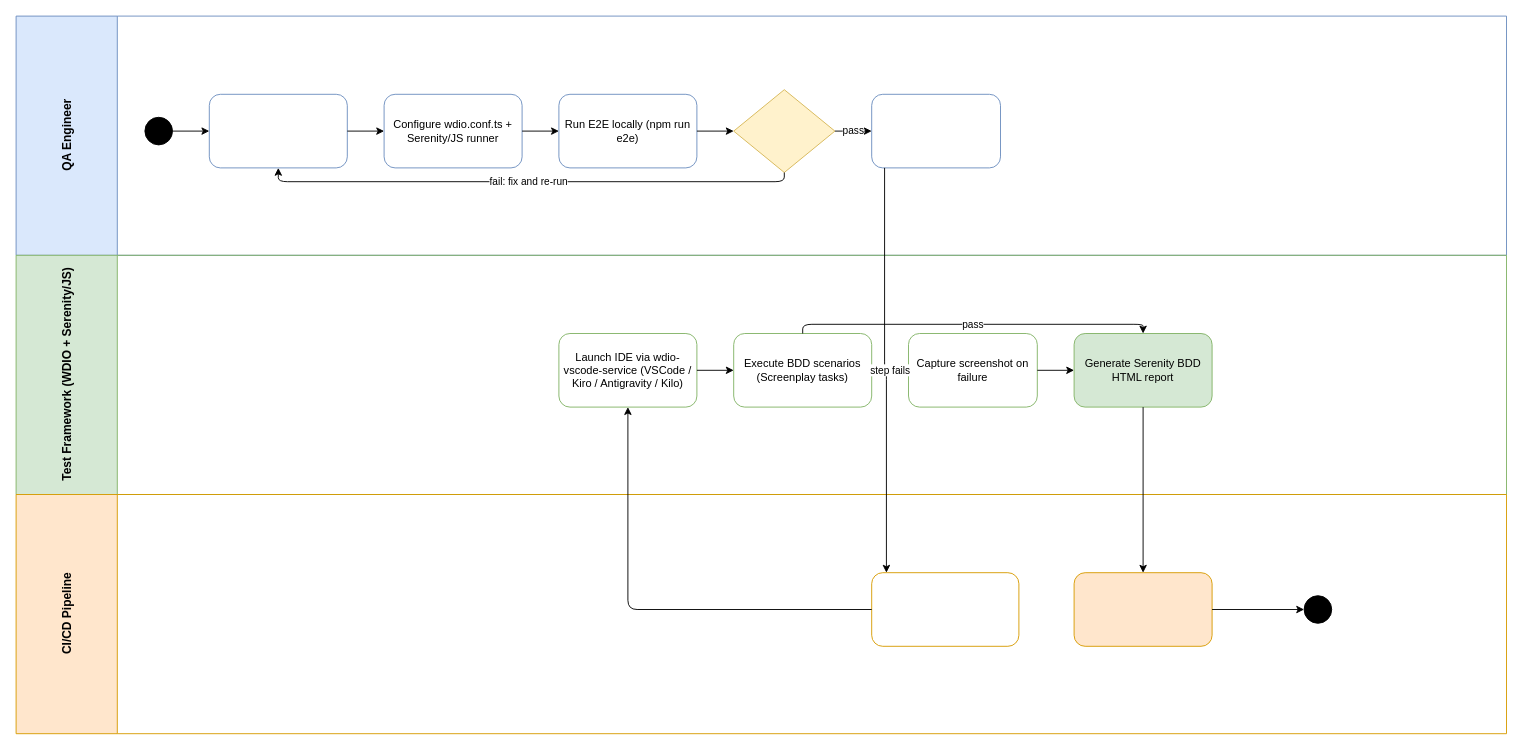
Image size: 1523x750. Some labels were removed from this diagram. Each missing label, with the centre of its shape:
"Author BDD feature files (Gherkin Given/When/Then)" goes at point 277,130.
"CI triggers headless run (Linux xvfb / Windows runner)" goes at point 945,609.
"Commit tests to main (L3 autonomy)" goes at point 935,130.
"Local run stable?" goes at point 784,130.
"Publish report + screenshots as artifacts" goes at point 1142,609.
